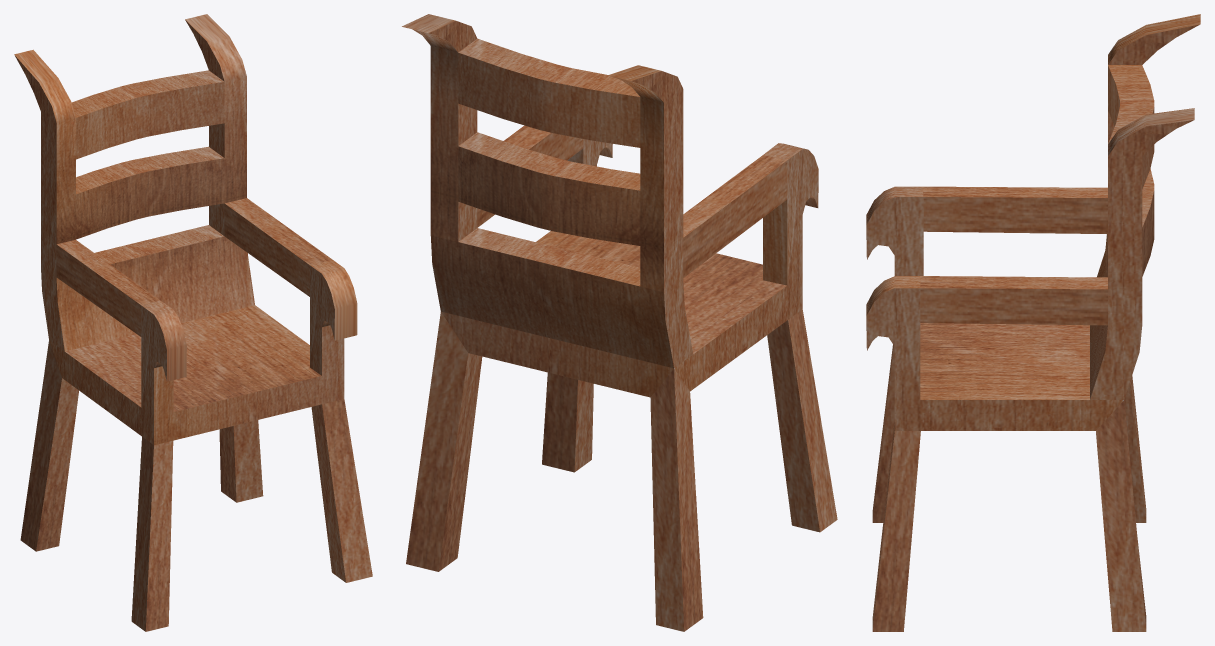
Rendered from chair.glb.
The picture shows the model from 3 angles, left to right: view 1: azimuth 30°, elevation 25°; view 2: azimuth 150°, elevation 25°; view 3: azimuth 270°, elevation 25°; orthographic projection. The views are drawn at different scales.
Visible parts, largest first — view 1: pCube21; view 2: pCube21; view 3: pCube21.
Boxes of the visible parts, x1,y1,x2,y2 form: pCube21: (14,14,372,631); pCube21: (402,14,837,631); pCube21: (866,14,1200,631).
Size of the model in its own units: 0.6569 by 1.28 by 0.7663.
Materials: 1 (1 with a texture image).
